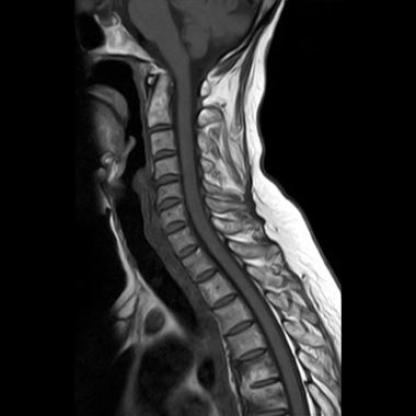Disc Bulgerotation: (153, 195, 187, 213), (160, 219, 190, 234), (152, 172, 182, 187)
